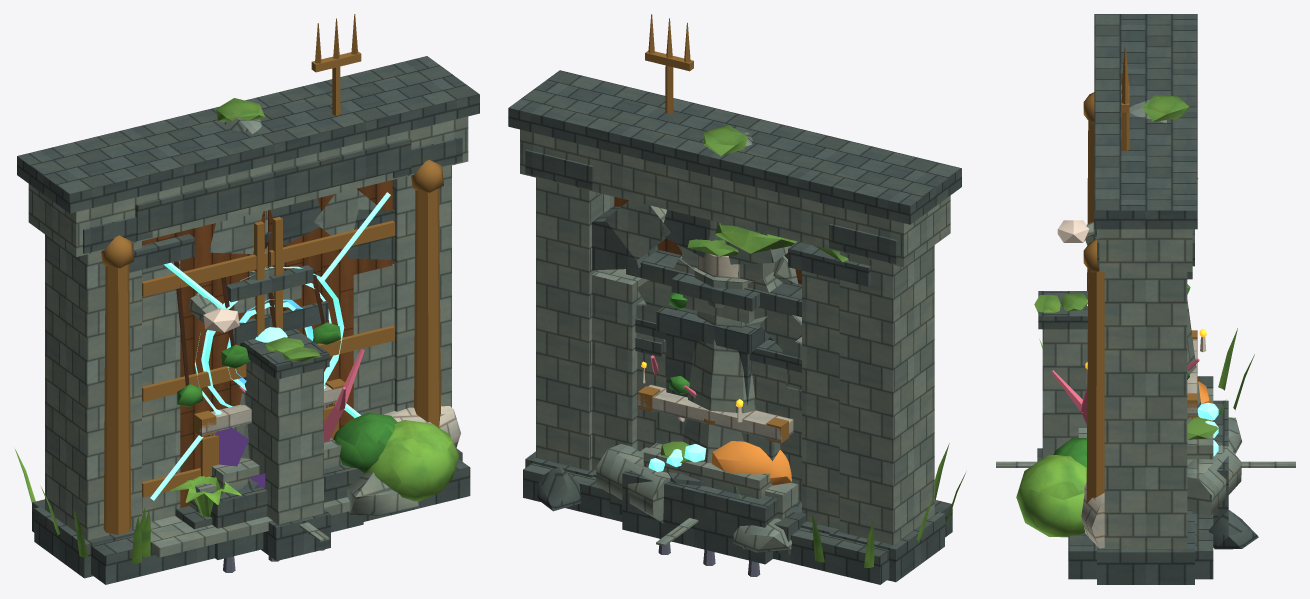
The model's file is dungeon.glb.
3 renders of one model, left to right at view 1: azimuth 30°, elevation 25°; view 2: azimuth 150°, elevation 25°; view 3: azimuth 270°, elevation 25°, orthographic. The views are drawn at different scales.
Parts seen in each view (by area): view 1: BossDoor, RuinArch, WallCorner, Statue, RuinColumn, Altar, Pillar, CoralGrowth, WallEnd; view 2: BossDoor, RuinArch, Statue, Altar, Arch, WallCorner, RuinColumn, CoralGrowth, Wall, PillarBroken, Pillar, WallEnd (+1 smaller); view 3: BossDoor, RuinArch, WallCorner, Statue, RuinColumn, PillarBroken, CoralGrowth, Altar, SpikeTrap.
Part boxes in pixels (box(x1,y1,x2,y2)): BossDoor: box(17, 56, 479, 584); RuinArch: box(15, 189, 459, 563); WallCorner: box(232, 306, 330, 560); Statue: box(189, 14, 363, 559); RuinColumn: box(170, 98, 460, 516); Altar: box(175, 378, 347, 529); Pillar: box(227, 265, 313, 313); CoralGrowth: box(215, 348, 364, 489); WallEnd: box(256, 301, 328, 336); BossDoor: box(508, 70, 961, 584); RuinArch: box(537, 200, 965, 567); Statue: box(622, 14, 798, 564); Altar: box(609, 361, 806, 555); Arch: box(626, 249, 801, 391); WallCorner: box(635, 309, 769, 451); RuinColumn: box(669, 125, 791, 552); CoralGrowth: box(648, 355, 801, 512); Wall: box(635, 318, 801, 501); PillarBroken: box(596, 444, 745, 549); Pillar: box(671, 273, 759, 323); WallEnd: box(656, 307, 801, 397); BossDoor: box(1068, 14, 1213, 584); RuinArch: box(1016, 178, 1258, 549); WallCorner: box(1034, 291, 1087, 461); Statue: box(1057, 47, 1228, 518); RuinColumn: box(1081, 95, 1242, 548); PillarBroken: box(1187, 445, 1241, 515); CoralGrowth: box(1051, 358, 1222, 456); Altar: box(1085, 329, 1218, 524); SpikeTrap: box(996, 461, 1295, 467).
Size of the model in its own units: 4.52 by 5.35 by 2.9.
27 materials, 11 textured.
